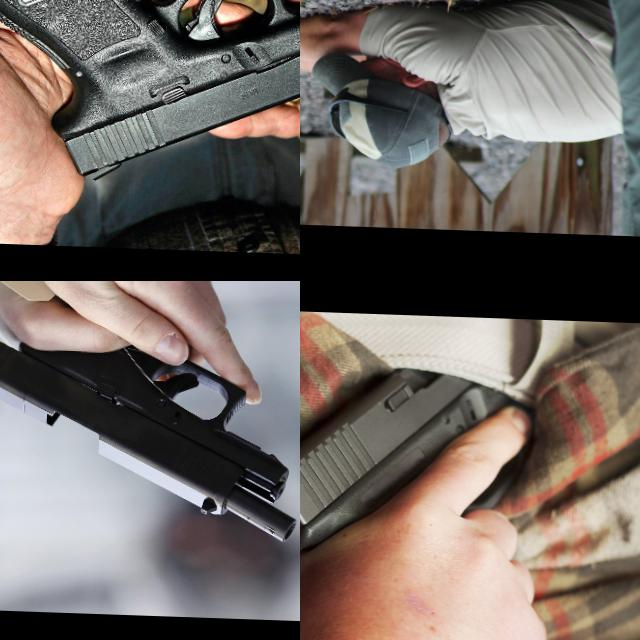handgun: (0, 315, 300, 543), (0, 0, 300, 194), (300, 349, 522, 567), (300, 61, 353, 112)
